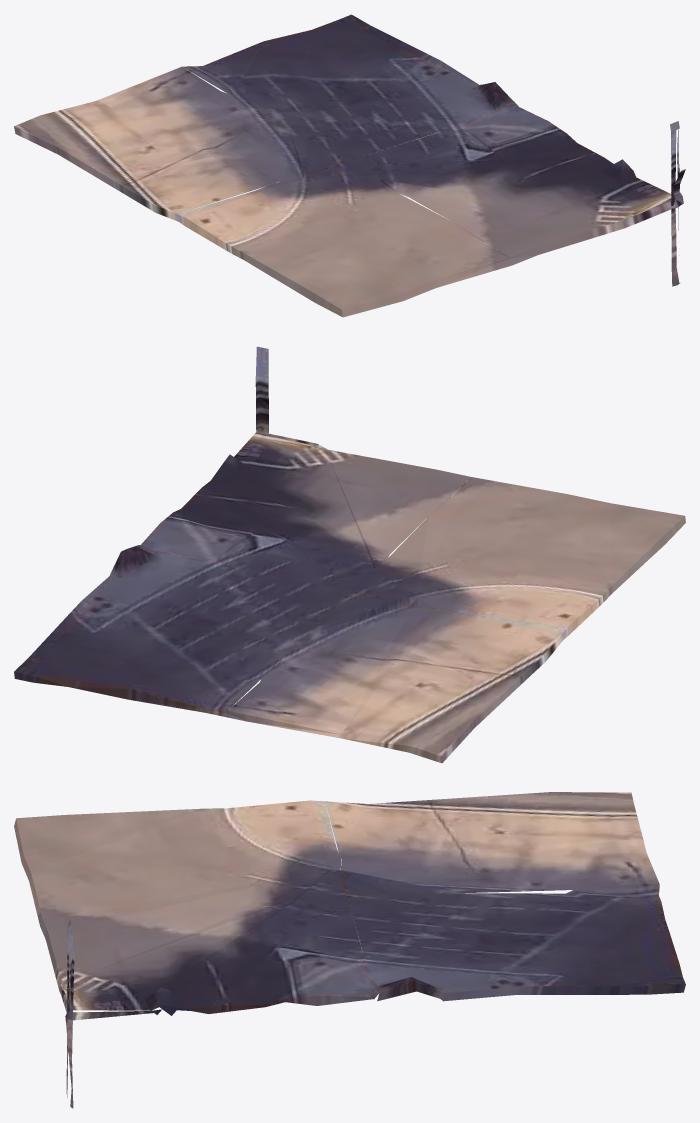
3 views of the same model, one above another, from view 1: azimuth 30°, elevation 25°; view 2: azimuth 150°, elevation 25°; view 3: azimuth 270°, elevation 25° (orthographic). The views are drawn at different scales.
Visible parts, largest first — view 1: Mesh_0; view 2: Mesh_0; view 3: Mesh_0.
Boxes of the visible parts, left/top/right/bottom form: Mesh_0: left=14, top=14, right=685, bottom=317; Mesh_0: left=14, top=346, right=685, bottom=763; Mesh_0: left=14, top=792, right=685, bottom=1108.
Bounding box in the file's own units: 33.77 × 12.6 × 41.41.
Materials: 1 (1 with a texture image).
